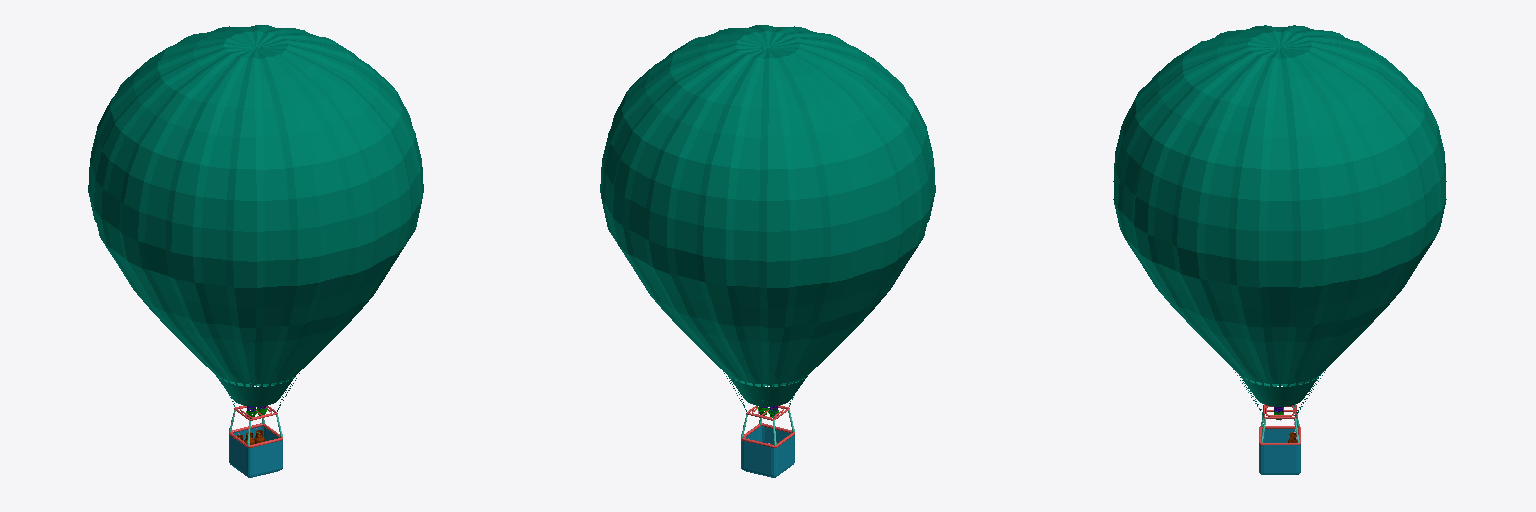
File: HotAirBalloonLP.obj
The picture shows the model from 3 angles: view 1: azimuth 30°, elevation 25°; view 2: azimuth 150°, elevation 25°; view 3: azimuth 270°, elevation 25°; orthographic projection.
Visible parts, largest first — view 1: Sphere001, Box001, Object001; view 2: Sphere001, Box001, Object001; view 3: Sphere001, Box001, Object001.
Boxes of the visible parts, box(x1,y1,x2,y2) form: Sphere001: box(88, 25, 423, 384); Box001: box(229, 426, 282, 477); Object001: box(215, 374, 295, 406); Sphere001: box(600, 25, 935, 384); Box001: box(741, 426, 794, 477); Object001: box(728, 374, 808, 406); Sphere001: box(1113, 25, 1446, 383); Box001: box(1259, 429, 1300, 474); Object001: box(1241, 376, 1318, 406).
Size of the model in its own units: 31.88 by 44.66 by 31.88.